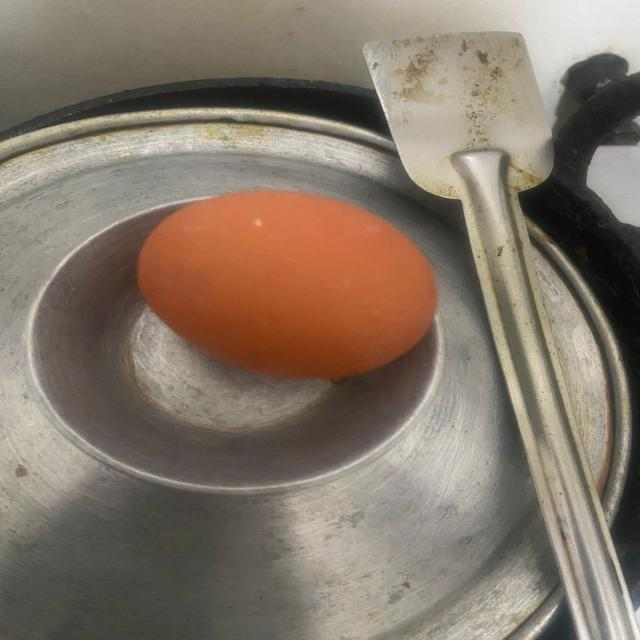Egg: (137, 183, 447, 381)
